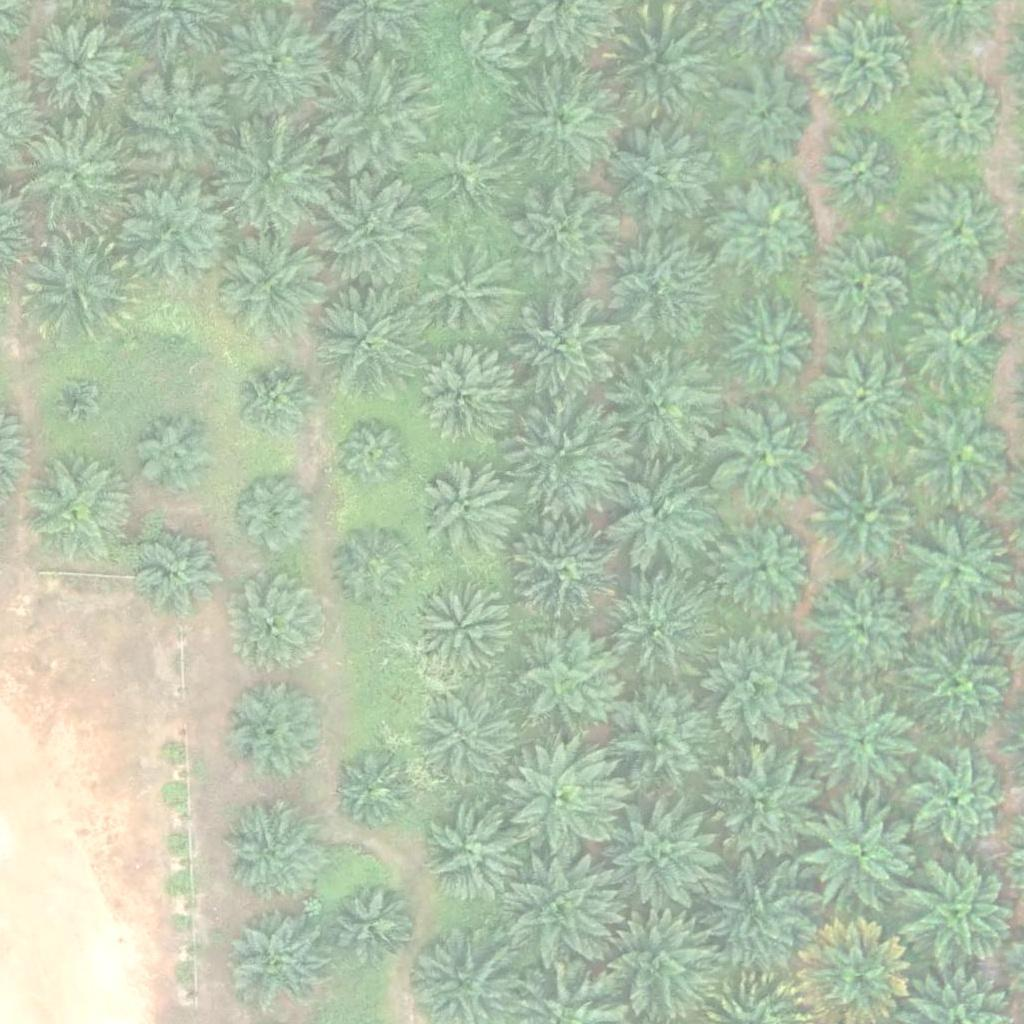Kelapa_Sawit: (312, 277, 425, 391), (215, 8, 328, 122), (212, 118, 325, 232), (808, 4, 921, 117), (607, 117, 720, 230), (603, 227, 716, 340), (503, 64, 616, 177), (509, 181, 622, 294), (217, 228, 330, 341), (119, 68, 232, 181), (511, 399, 624, 512), (512, 516, 625, 629), (608, 347, 721, 460), (605, 461, 718, 574), (599, 572, 712, 685), (607, 687, 720, 800), (707, 627, 820, 740), (710, 741, 823, 854), (709, 859, 822, 972), (900, 514, 1013, 627), (509, 292, 621, 406), (316, 58, 428, 172), (318, 175, 430, 289), (22, 453, 134, 567), (507, 856, 619, 970), (21, 229, 133, 342), (604, 12, 716, 125), (124, 175, 236, 288), (19, 119, 131, 232), (507, 625, 619, 738), (506, 746, 618, 859), (609, 798, 721, 911), (712, 401, 824, 514), (807, 340, 919, 453), (814, 467, 926, 580), (807, 573, 919, 686), (807, 692, 919, 805), (804, 798, 916, 911), (907, 632, 1019, 745), (908, 856, 1020, 969), (909, 181, 1009, 282), (909, 298, 1009, 399), (813, 235, 913, 336), (718, 68, 818, 169), (719, 178, 819, 279), (716, 292, 816, 393), (28, 16, 128, 117), (220, 800, 320, 901), (412, 349, 512, 450), (418, 461, 518, 562), (413, 579, 513, 680), (718, 518, 818, 619), (908, 752, 1008, 853), (228, 911, 328, 1012), (416, 125, 516, 225), (420, 244, 520, 344), (230, 574, 330, 674), (225, 681, 325, 781), (423, 693, 523, 793), (425, 806, 525, 906), (910, 402, 1010, 502), (817, 130, 905, 218), (433, 15, 521, 103), (139, 526, 227, 614), (917, 73, 1004, 161), (133, 411, 220, 499), (232, 361, 319, 449), (229, 470, 316, 558), (331, 525, 418, 613), (329, 881, 416, 969), (336, 753, 411, 829), (334, 417, 409, 492), (51, 375, 101, 426), (148, 312, 198, 362)
